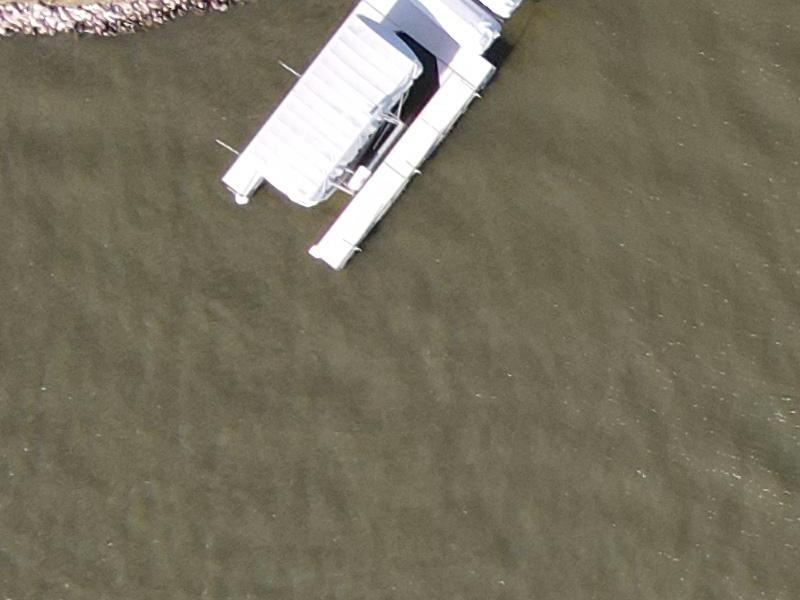boat: (220, 1, 555, 275)
lift: (246, 14, 431, 208)
